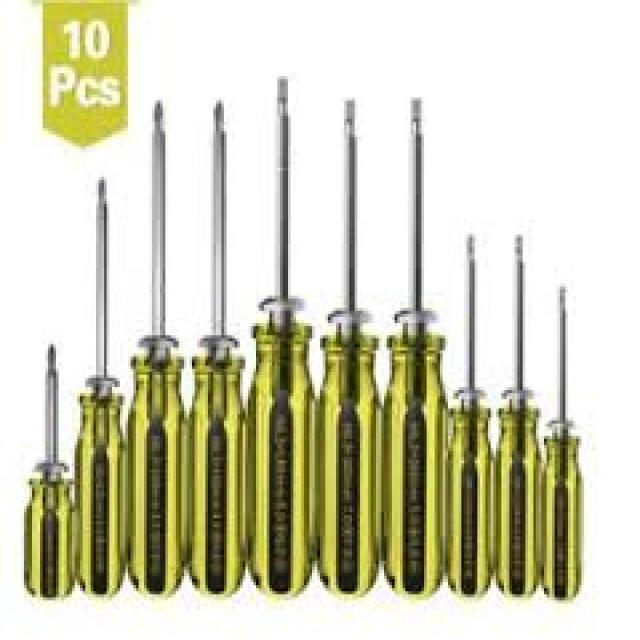screwdriver: (244, 73, 314, 604), (380, 82, 444, 610), (183, 93, 246, 608), (122, 99, 184, 605), (316, 96, 378, 596), (74, 174, 122, 604), (492, 230, 543, 602), (446, 223, 494, 606), (19, 338, 74, 606), (541, 276, 584, 605)
